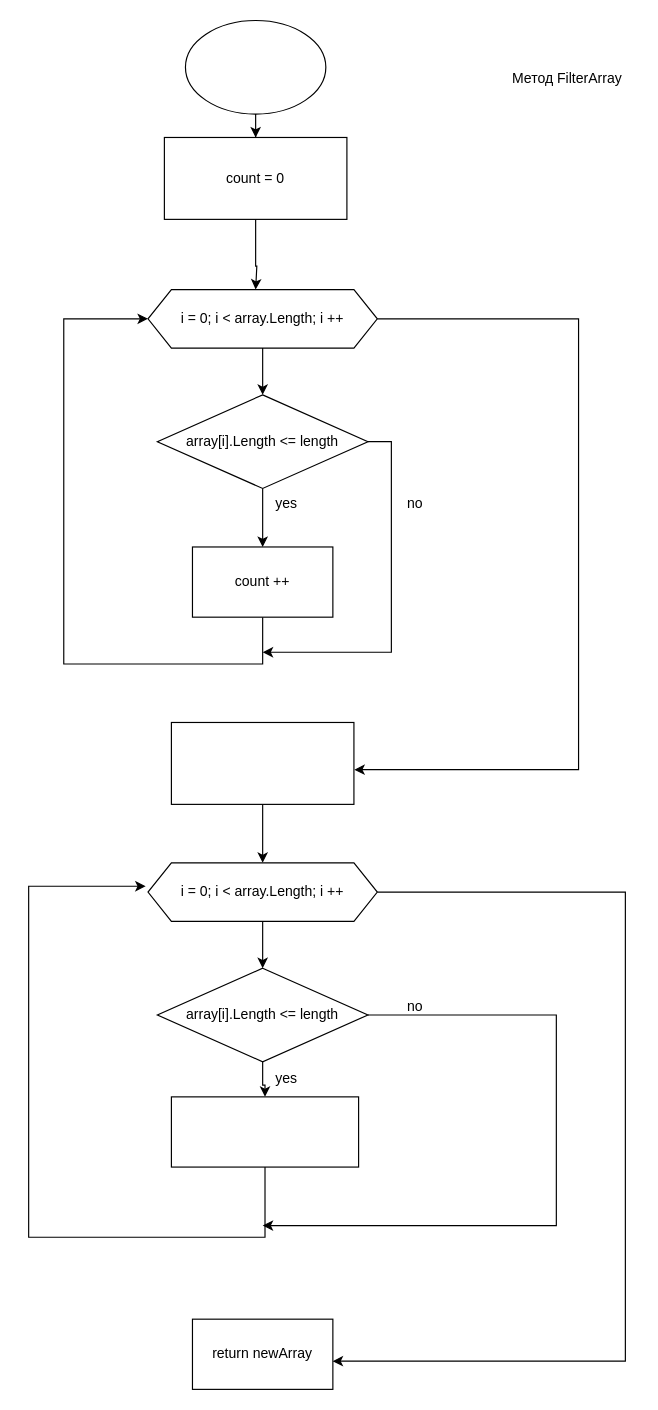
Some shapes in this 658 by 1410 pixel diagram are drawn without their labels. Each missing label, with the centre of its shape:
"newArray[index] = array[i] index ++" goes at [264,1131].
"start" goes at [255,66].
"string[]newArray = new string[count] index = 0" goes at [262,762].
